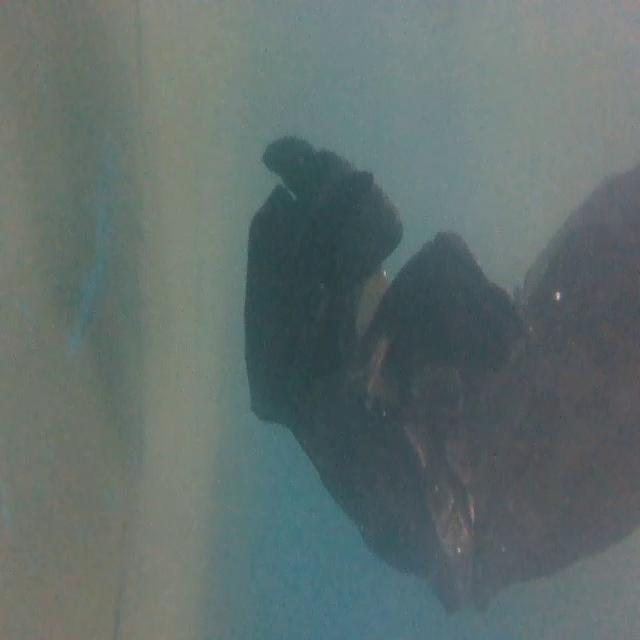plastic bags: (243, 125, 640, 634)
